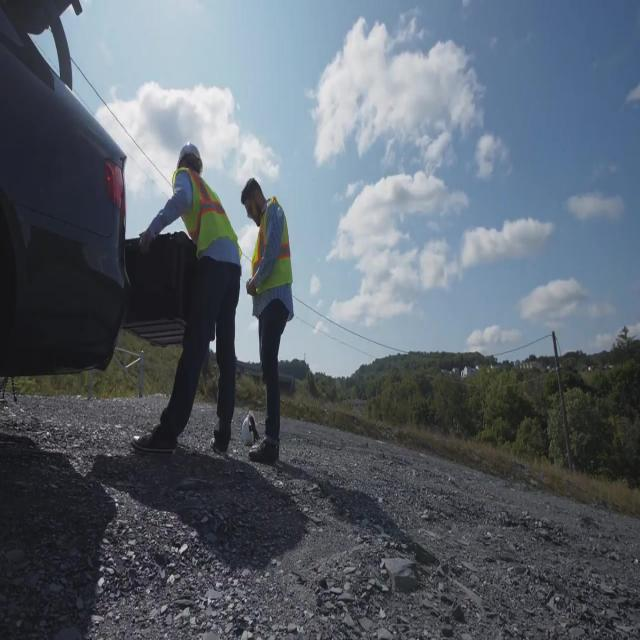Reflective-Jacket: (168, 168, 246, 269), (244, 190, 304, 315)
Safety-Helmet: (168, 131, 210, 184)
